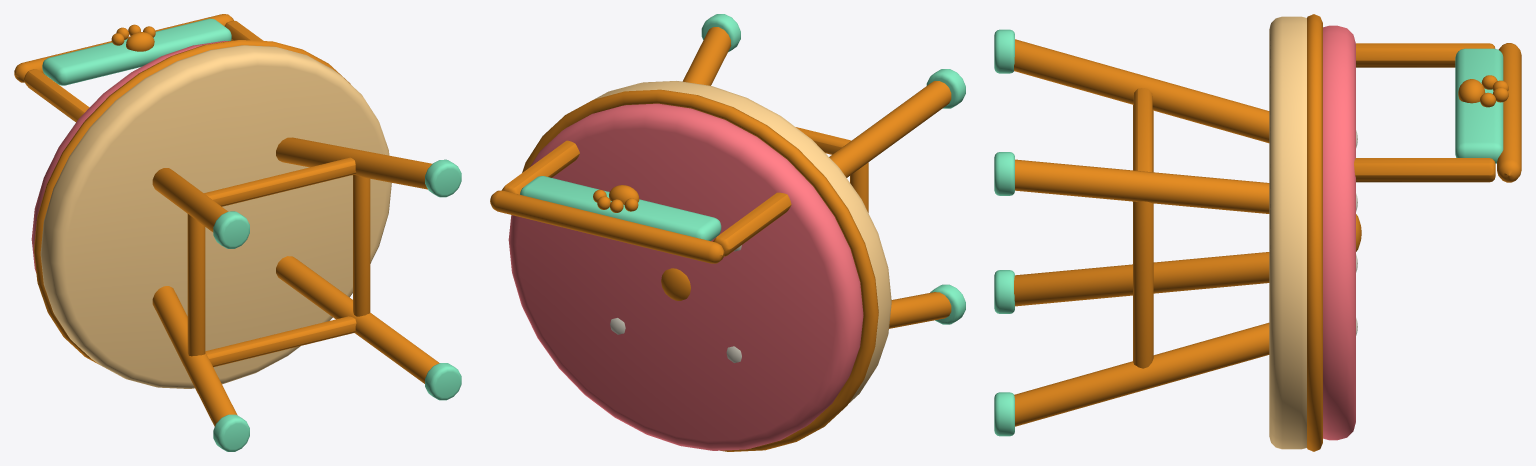
The model's file is KitchenCounterStool_Premium.fbx.
3 views of the same model, side by side, from view 1: azimuth 30°, elevation 25°; view 2: azimuth 150°, elevation 25°; view 3: azimuth 270°, elevation 25° (orthographic). The views are drawn at different scales.
Parts seen in each view (by area): view 1: KitchenCounterStool; view 2: KitchenCounterStool; view 3: KitchenCounterStool.
Boxes of the visible parts, left/top/right/bottom form: KitchenCounterStool: left=14, top=14, right=461, bottom=451; KitchenCounterStool: left=490, top=14, right=965, bottom=451; KitchenCounterStool: left=994, top=14, right=1521, bottom=451.
Size of the model in its own units: 0.7288 by 0.668 by 0.815.
